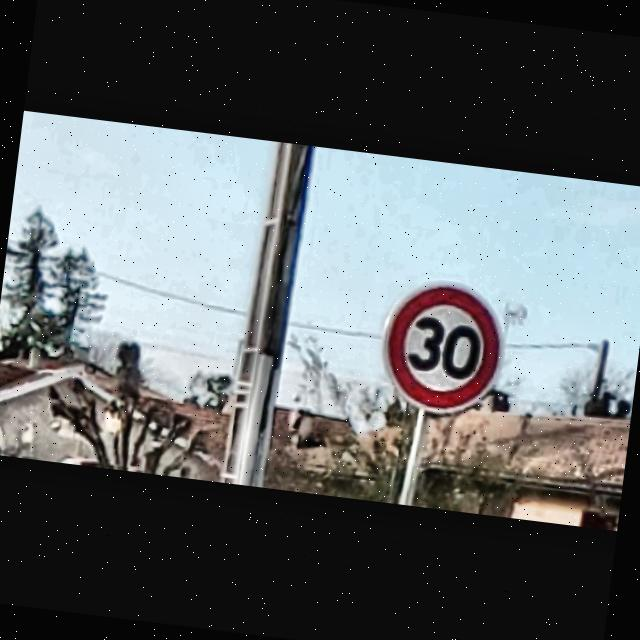speed_30: (374, 275, 507, 419)
